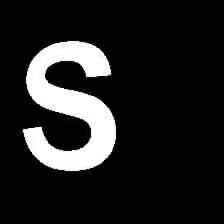LTR_S: (17, 35, 123, 177)
